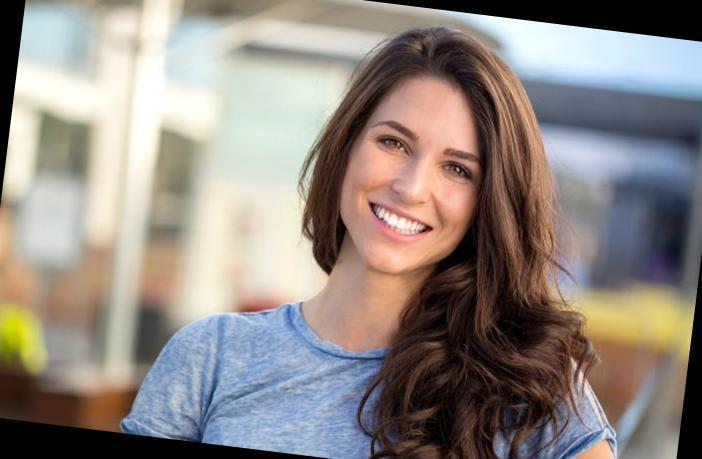Sober: (356, 82, 473, 263)
